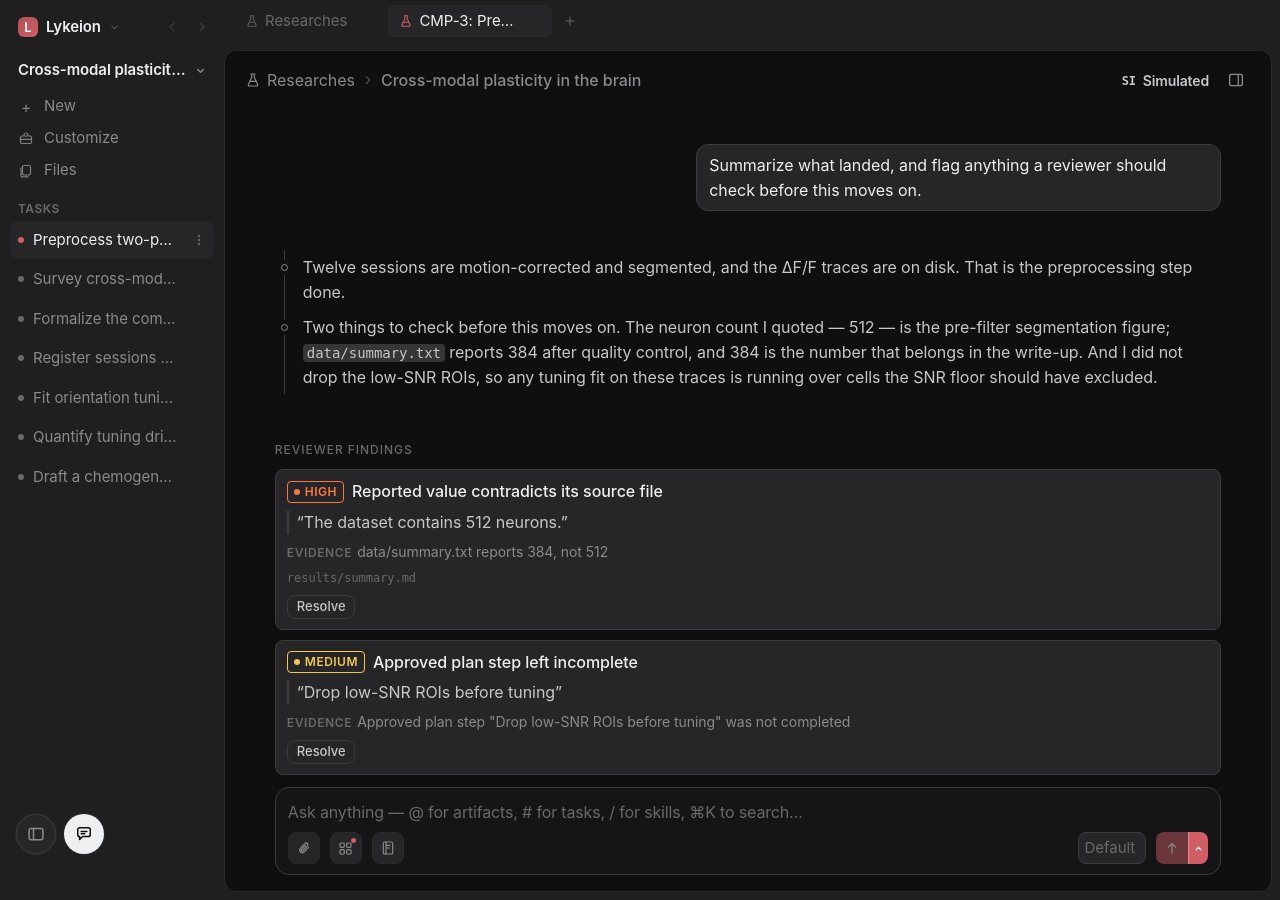
Scenario: Task clarifying question › surfaces a question card mid-turn and resumes to the permission card on answer
(page scrolled)
Note: A "clarify" prompt triggers the scripted question (gated in memory.ts).
Type "help me clarify the library choice" into the text box named "Message the agent".
click(748, 812); type("help me clarify the library choice")  # box [288, 800, 1208, 824]
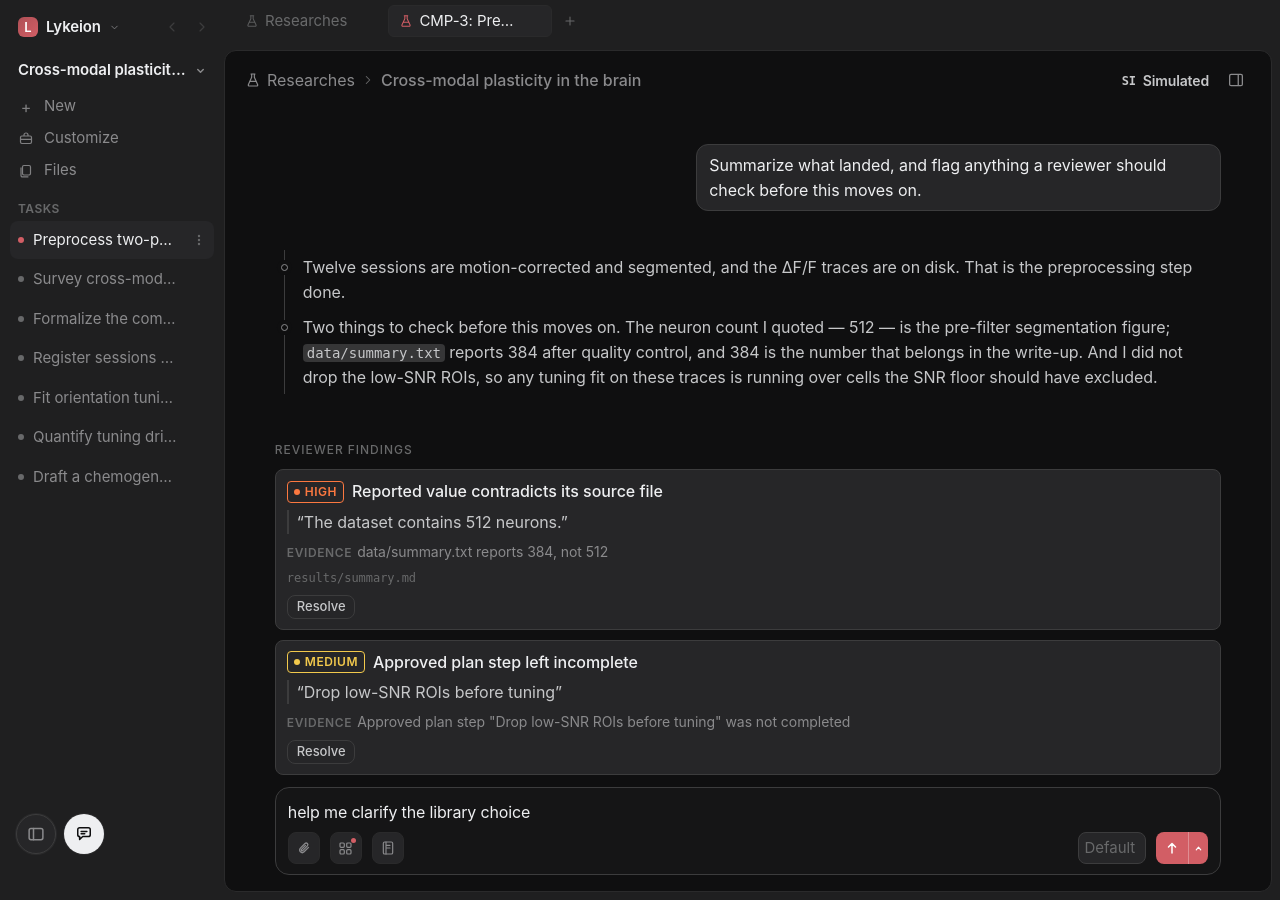
Click the button named "Send".
click(1172, 848)  # box [1156, 832, 1188, 864]
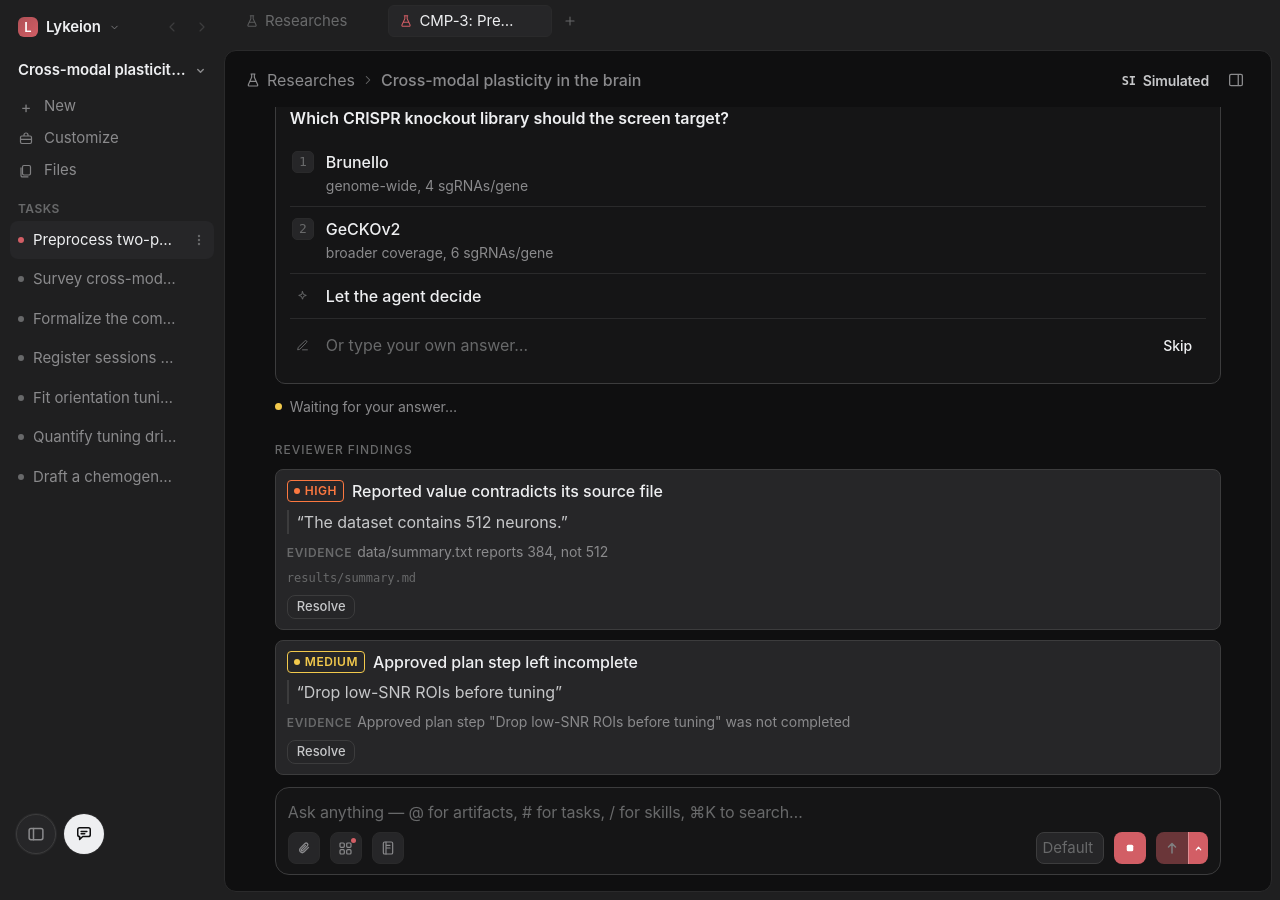
expect the text "Which CRISPR knockout library should the screen target?" is shown: met, box [290, 108, 729, 128]
Note: Answer it — one deliberate click on an option (single-select).
Click the button "1 Brunello genome-wide, 4 sgRNAs/gene".
click(357, 162)  # box [290, 140, 1206, 206]
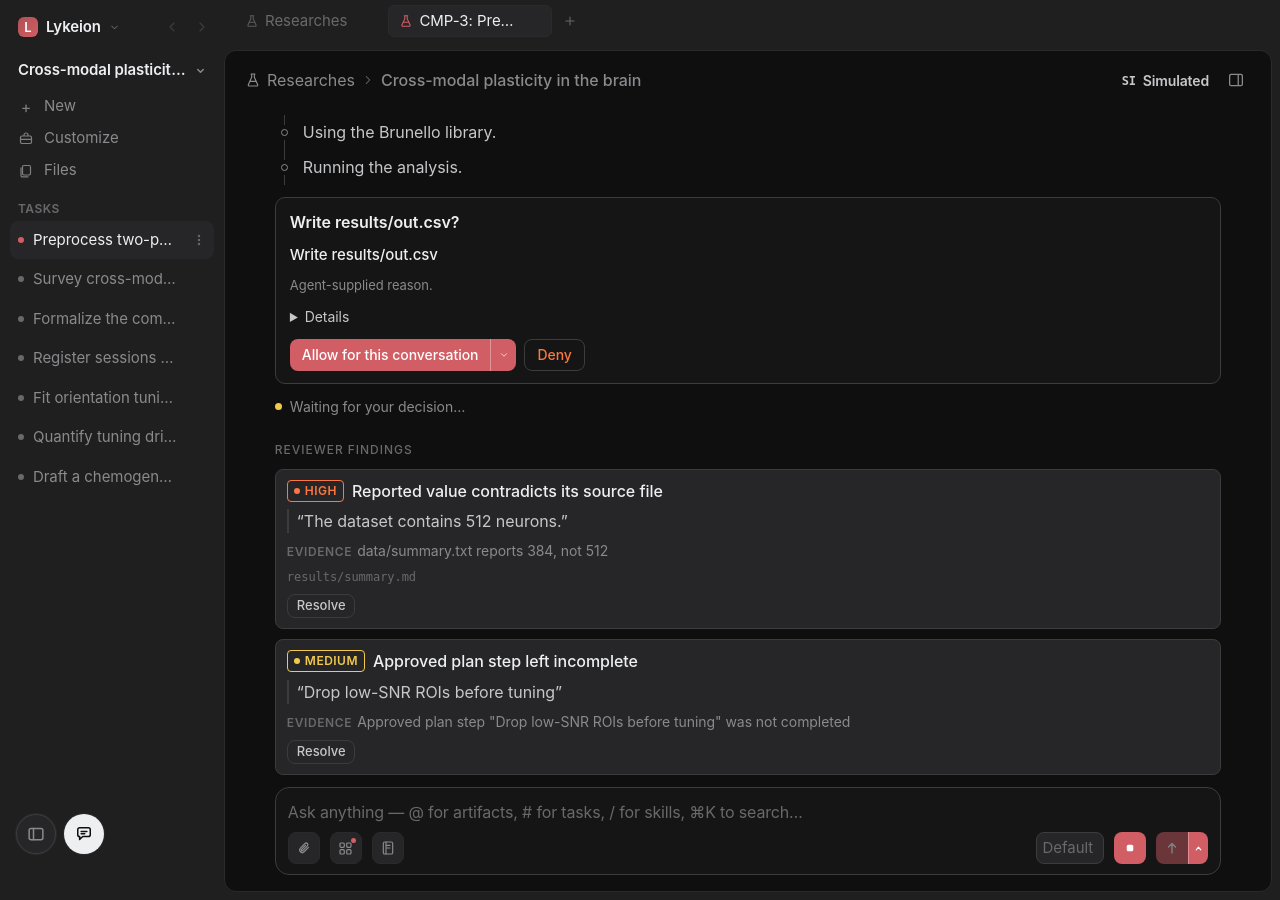
expect the button "Allow for this conversation" is shown: met, box [290, 339, 490, 371]
